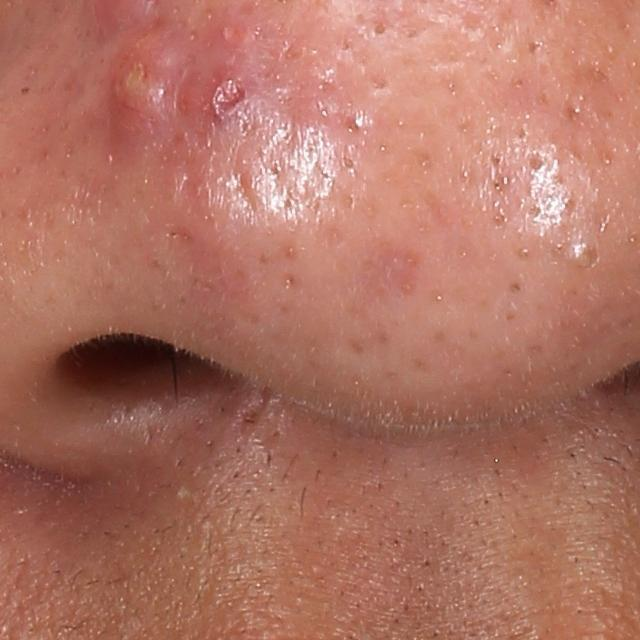comedo: (370, 21, 389, 38)
other: (566, 239, 597, 267)
papule: (111, 20, 193, 144), (192, 68, 271, 138)
